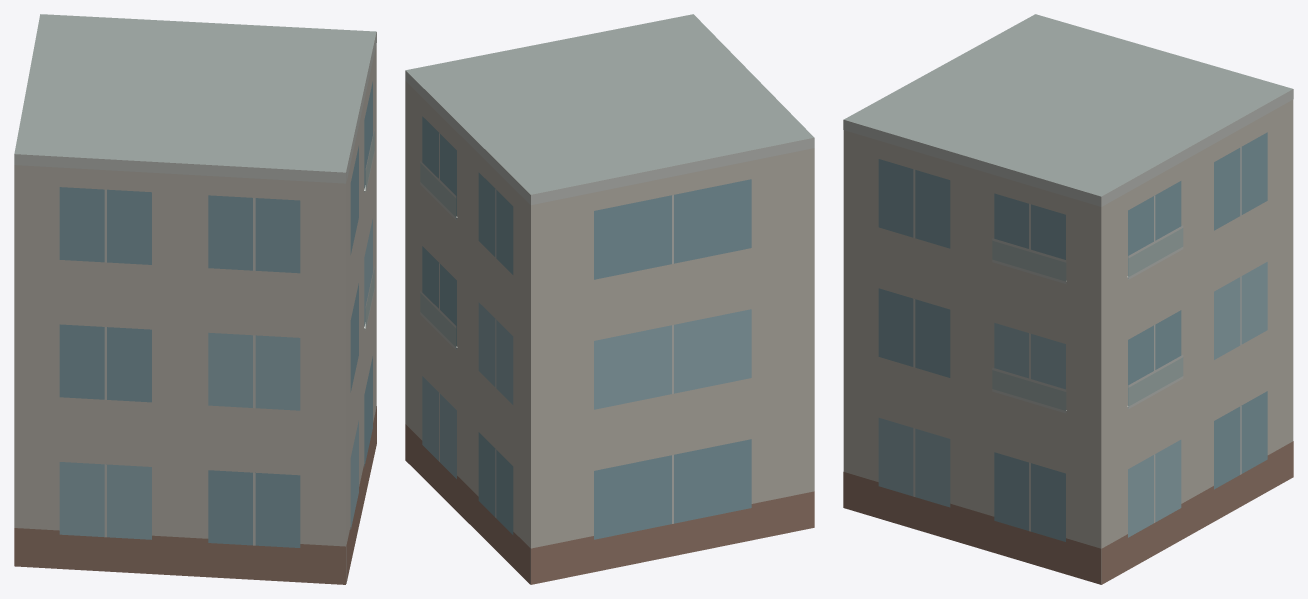
The model's file is survey-upis-33002261.glb.
The picture shows the model from 3 angles, left to right: view 1: azimuth 30°, elevation 25°; view 2: azimuth 150°, elevation 25°; view 3: azimuth 270°, elevation 25°; orthographic projection. The views are drawn at different scales.
Visible parts, largest first — view 1: survey-upis-33002261.tmp; view 2: survey-upis-33002261.tmp; view 3: survey-upis-33002261.tmp.
Part boxes in pixels (<box>): survey-upis-33002261.tmp: <box>14,14,376,584</box>; survey-upis-33002261.tmp: <box>405,14,814,584</box>; survey-upis-33002261.tmp: <box>843,14,1293,584</box>.
Size of the model in its own units: 9.24 by 9.15 by 9.62.
